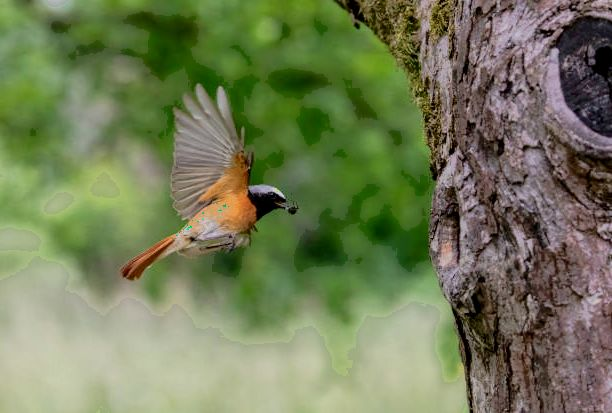Bird: (112, 80, 299, 284)
